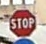stop: (7, 8, 38, 36)
